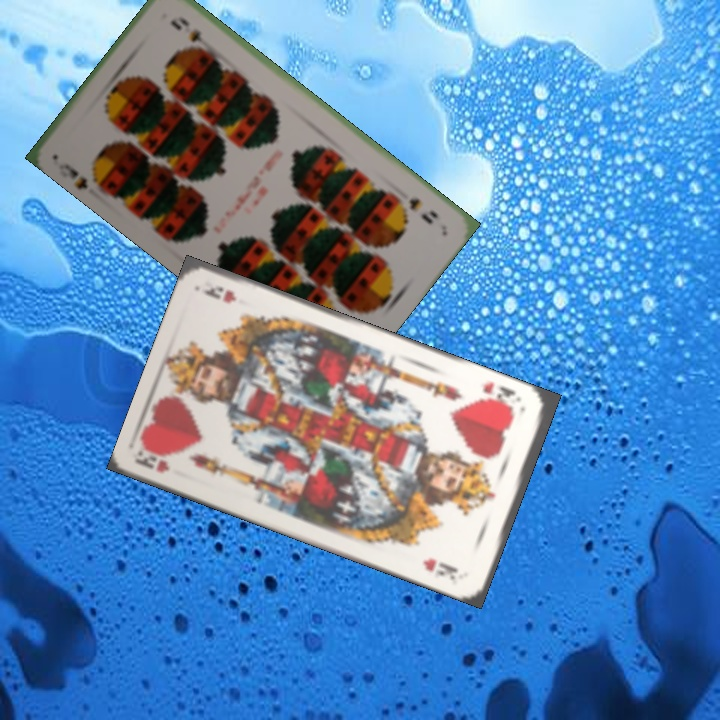HK: (476, 378, 524, 413), (135, 445, 173, 475)
S9: (54, 159, 107, 195), (405, 194, 441, 227)
